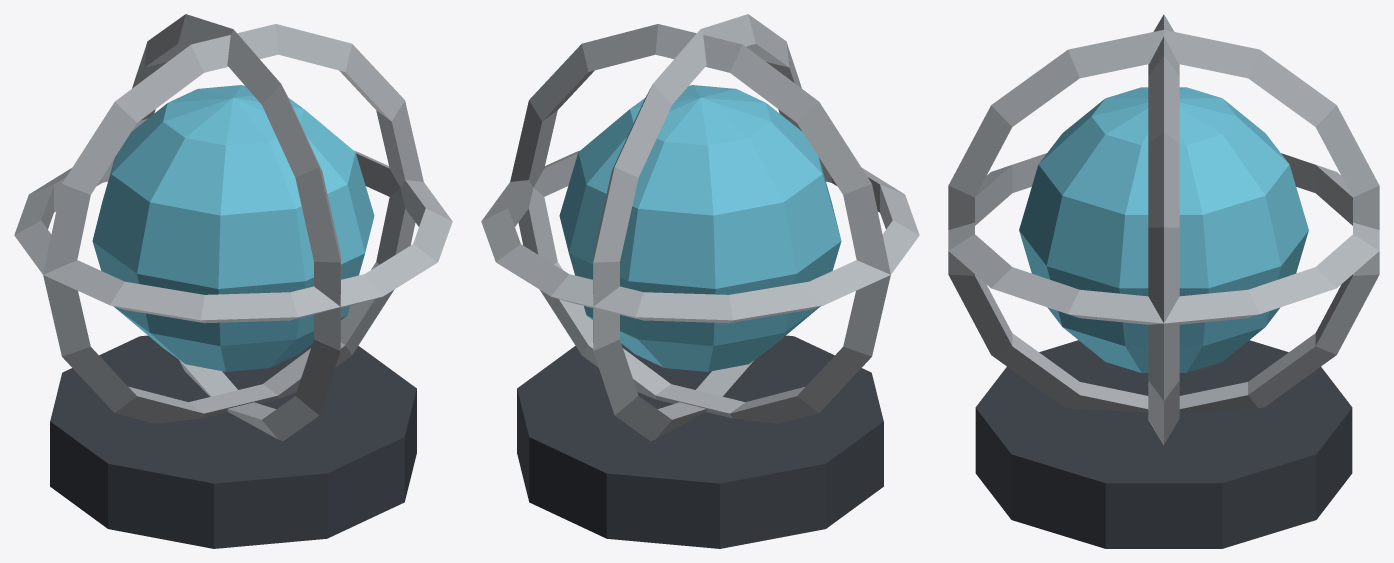
Rendered from mod-core.glb.
The picture shows the model from 3 angles, left to right: view 1: azimuth 30°, elevation 25°; view 2: azimuth 150°, elevation 25°; view 3: azimuth 270°, elevation 25°; orthographic projection.
Parts seen in each view (by area): view 1: m; view 2: m; view 3: m.
Boxes of the visible parts, x1,y1,x2,y2 form: m: (14,14,452,548); m: (481,14,919,548); m: (948,14,1379,548).
Size of the model in its own units: 0.0542 by 0.06 by 0.0529.
